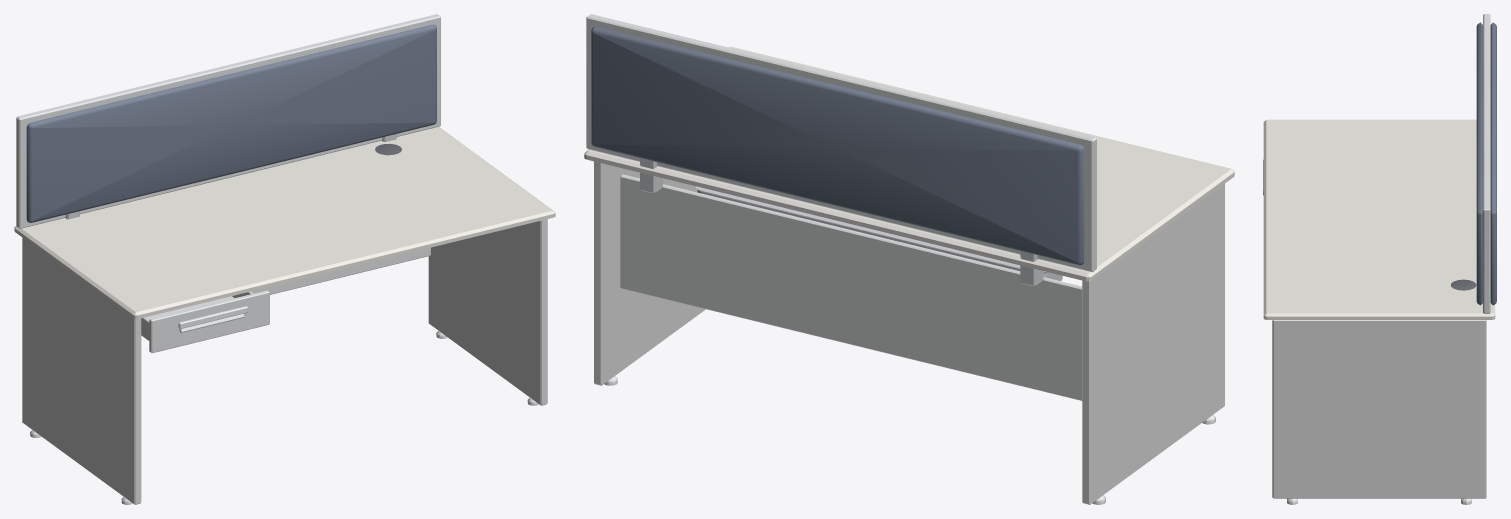
File: delegacia_mesa.glb
3 views of the same model, side by side, from view 1: azimuth 30°, elevation 25°; view 2: azimuth 150°, elevation 25°; view 3: azimuth 270°, elevation 25° (orthographic). The views are drawn at different scales.
Visible parts, largest first — view 1: squad-desk-with-divider, desk-drawer-1/painted, desk-drawer-1/chrome; view 2: squad-desk-with-divider; view 3: squad-desk-with-divider.
Boxes of the visible parts, left/top/right/bottom form: squad-desk-with-divider: left=14, top=14, right=555, bottom=504; desk-drawer-1/painted: left=141, top=290, right=269, bottom=353; desk-drawer-1/chrome: left=178, top=306, right=247, bottom=332; squad-desk-with-divider: left=584, top=14, right=1234, bottom=504; squad-desk-with-divider: left=1263, top=14, right=1496, bottom=504.
Size of the model in its own units: 1.6 by 1.13 by 0.8069.
